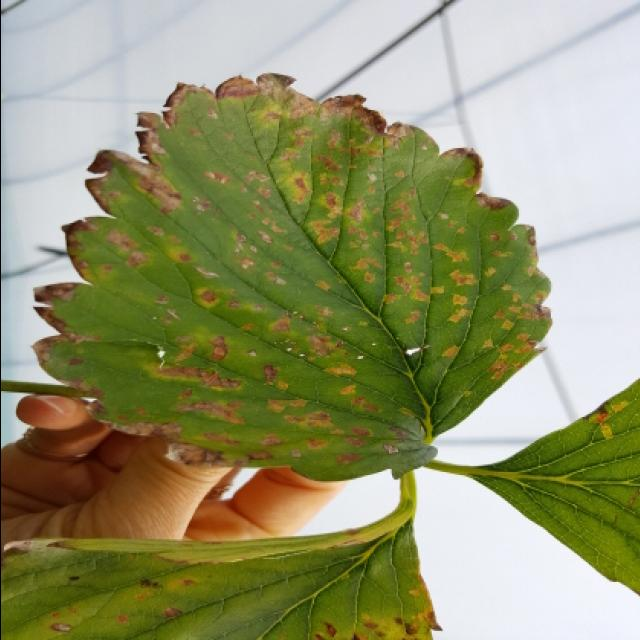Angular Leafspot: (27, 71, 554, 483), (2, 494, 441, 640), (467, 373, 640, 597)
